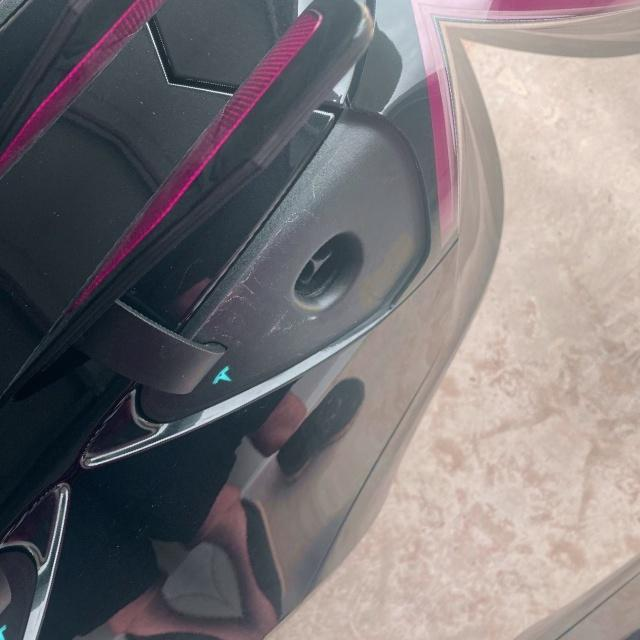Tesla Model-S-: (278, 226, 379, 324)
